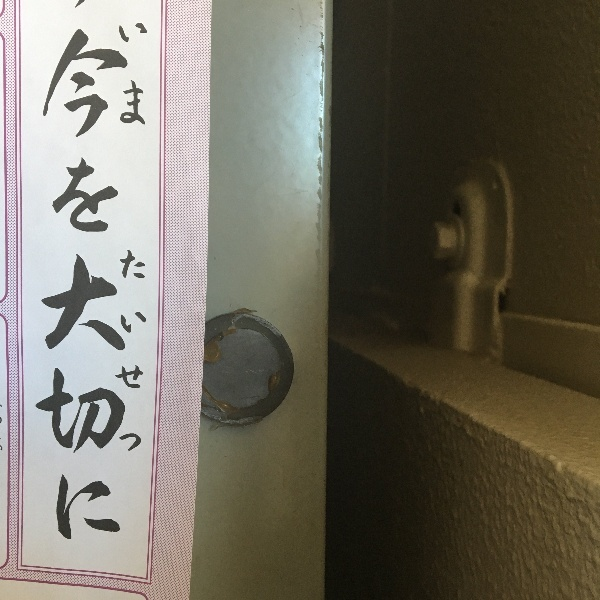text: (33, 30, 48, 545), (49, 30, 64, 545), (65, 30, 80, 545), (81, 30, 96, 545), (97, 30, 112, 545), (113, 30, 128, 545), (129, 250, 144, 452), (118, 250, 128, 452), (129, 24, 144, 127), (120, 24, 128, 127), (145, 250, 148, 452), (129, 30, 130, 545), (145, 24, 147, 127)
